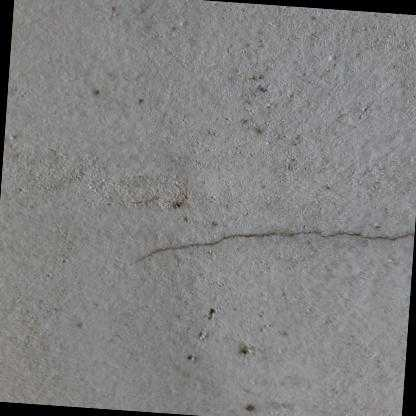crack: (128, 228, 415, 265)
